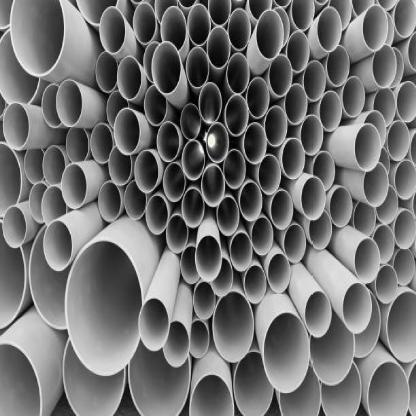pipe: (64, 239, 142, 375), (62, 337, 125, 415), (127, 339, 191, 415), (28, 224, 69, 332), (10, 0, 66, 76), (264, 312, 310, 393), (310, 309, 354, 387), (212, 290, 254, 362), (233, 349, 274, 415), (367, 362, 410, 414), (320, 362, 362, 414), (386, 290, 415, 362), (189, 373, 234, 415), (139, 298, 170, 351), (43, 220, 72, 272), (342, 283, 372, 333), (152, 42, 180, 94), (256, 9, 284, 60), (2, 102, 30, 151), (162, 320, 190, 367), (114, 107, 140, 156), (305, 291, 332, 338), (354, 124, 380, 172), (56, 78, 82, 126), (195, 235, 222, 281), (61, 162, 87, 209), (100, 6, 126, 53), (363, 4, 388, 51), (354, 238, 380, 283), (160, 5, 186, 50), (317, 6, 342, 52), (301, 177, 326, 221), (364, 162, 388, 206), (117, 56, 141, 100), (134, 150, 158, 193), (2, 205, 26, 248), (187, 3, 211, 46), (372, 44, 396, 87), (224, 95, 249, 136), (286, 30, 310, 72), (326, 45, 350, 87), (268, 54, 292, 96), (246, 77, 270, 119), (133, 3, 156, 46), (207, 27, 230, 70), (186, 46, 209, 89), (264, 106, 288, 147), (98, 182, 122, 223), (206, 122, 229, 164), (282, 138, 305, 180), (312, 150, 335, 192), (201, 165, 224, 207), (342, 76, 365, 118), (144, 84, 167, 126), (319, 90, 342, 132), (181, 140, 205, 180), (108, 146, 132, 186), (250, 216, 274, 256), (228, 8, 250, 51), (387, 121, 410, 162), (90, 123, 113, 164), (271, 189, 294, 230), (303, 61, 326, 102), (199, 82, 222, 123), (244, 122, 266, 164), (300, 115, 323, 155), (330, 187, 353, 227), (217, 196, 240, 236), (226, 54, 249, 94), (284, 84, 307, 124), (106, 90, 130, 128), (157, 121, 179, 162), (258, 154, 280, 195), (124, 180, 146, 221), (96, 51, 118, 92), (372, 225, 395, 264), (42, 186, 66, 223), (224, 150, 246, 190), (164, 162, 186, 202), (240, 182, 262, 222), (182, 188, 204, 228), (394, 209, 416, 249), (166, 214, 188, 254), (230, 232, 252, 272), (268, 253, 290, 293), (211, 258, 233, 298), (244, 264, 266, 304), (42, 83, 62, 127), (43, 146, 66, 184), (283, 224, 306, 262), (193, 282, 216, 320), (373, 89, 396, 127), (394, 160, 415, 201), (364, 110, 386, 149), (376, 186, 398, 225), (146, 196, 168, 235), (309, 212, 332, 249), (375, 266, 398, 303), (396, 81, 416, 123), (180, 102, 202, 140), (66, 127, 89, 163), (394, 0, 415, 39), (29, 182, 48, 224), (353, 201, 376, 235), (180, 245, 200, 283), (190, 320, 210, 358), (394, 249, 414, 286), (24, 150, 45, 184), (292, 0, 314, 30), (207, 0, 232, 26)
